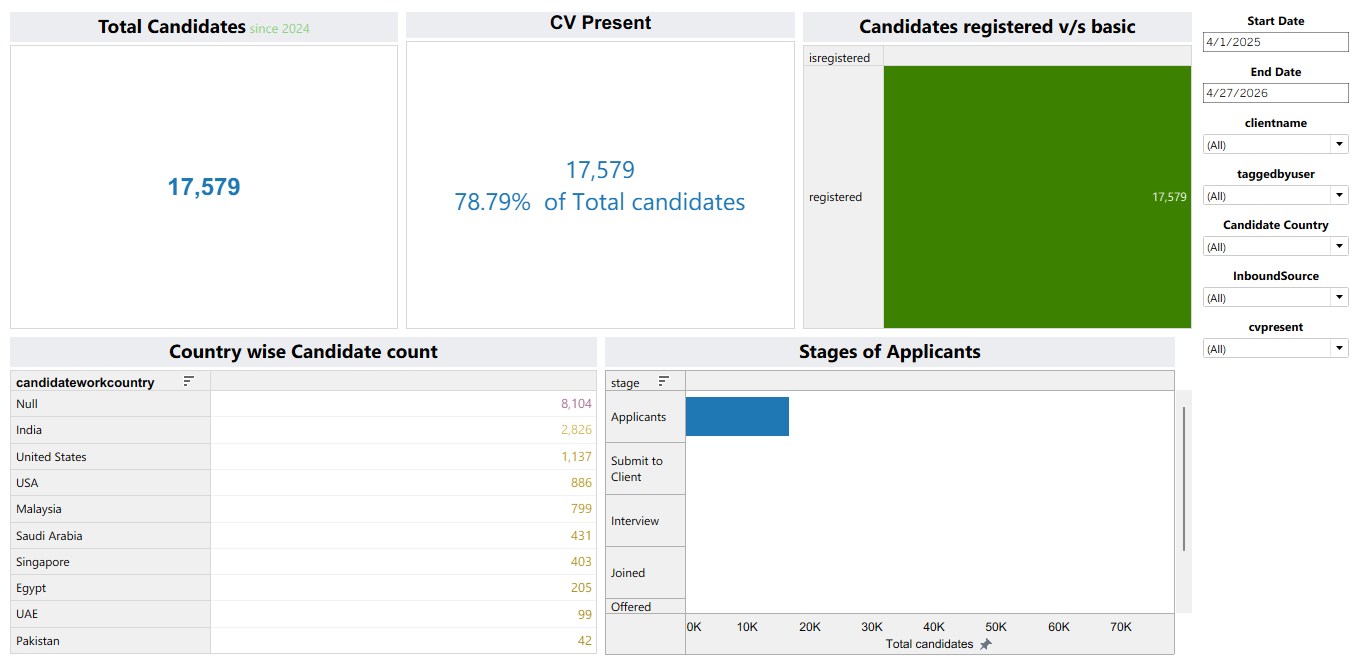

The dashboard page shown, as its layout file describes it:
{"tool":"tableau","page":{"name":"Dashboard 1","canvas":[1000,1000],"units":"permille","ordinal":0},"visuals":[{"type":"worksheet","title":"Total candidates","mark":"Automatic","box":[6.9,13.7,282.5,486.3]},{"type":"worksheet","title":"CV present","mark":"Automatic","box":[289.5,13.7,282.5,486.3]},{"type":"worksheet","title":"Candidates registered v/s basic","mark":"Square","rows":["isregistered"],"box":[572,13.7,282.5,486.3]},{"type":"parameter","param":"[Parameters].[Parameter 1]","box":[854.5,13.7,138.5,87.3]},{"type":"parameter","param":"[Parameters].[Parameter 2]","box":[854.5,101,138.5,87.3]},{"type":"filter","title":"Total candidates","param":"[sqlproxy.1h776nu17bqfv21fgzwo31el5dya].[none:clientname:nk]","box":[854.5,188.4,138.5,87.3]},{"type":"filter","title":"Total candidates","param":"[sqlproxy.1h776nu17bqfv21fgzwo31el5dya].[none:taggedbyuser:nk]","box":[854.5,275.7,138.5,87.3]},{"type":"filter","title":"Total candidates","param":"[sqlproxy.1h776nu17bqfv21fgzwo31el5dya].[none:Calculation_1349714405203968:nk]","box":[854.5,363,138.5,87.3]},{"type":"filter","title":"Total candidates","param":"[sqlproxy.1h776nu17bqfv21fgzwo31el5dya].[none:Calculation_1349714412871681:nk]","box":[854.5,450.4,138.5,87.3]},{"type":"worksheet","title":"Country wise","mark":"Automatic","rows":["candidateworkcountry"],"box":[6.9,500,423.8,486.2]},{"type":"worksheet","title":"Stages of Applicants","mark":"Bar","rows":["stage"],"cols":["candidateid"],"box":[430.7,500,423.8,486.3]},{"type":"filter","title":"Total candidates","param":"[sqlproxy.1h776nu17bqfv21fgzwo31el5dya].[none:cvpresent:nk]","box":[854.5,537.7,138.5,87.3]}]}

Visuals, with their boxes on the dashboard's canvas, which has no fixed pixel size, in thousandths of its width and height (x1, y1, x2, y2). These are canvas units, not pixel positions in the 1352x663 screenshot, which may show the page scaled, cropped or inside an application window:
"Total candidates" worksheet: {"x1": 7, "y1": 14, "x2": 289, "y2": 500}
"CV present" worksheet: {"x1": 290, "y1": 14, "x2": 572, "y2": 500}
"Candidates registered v/s basic" worksheet (Square marks): {"x1": 572, "y1": 14, "x2": 854, "y2": 500}
parameter: {"x1": 854, "y1": 14, "x2": 993, "y2": 101}
parameter: {"x1": 854, "y1": 101, "x2": 993, "y2": 188}
"Total candidates" filter: {"x1": 854, "y1": 188, "x2": 993, "y2": 276}
"Total candidates" filter: {"x1": 854, "y1": 276, "x2": 993, "y2": 363}
"Total candidates" filter: {"x1": 854, "y1": 363, "x2": 993, "y2": 450}
"Total candidates" filter: {"x1": 854, "y1": 450, "x2": 993, "y2": 538}
"Country wise" worksheet: {"x1": 7, "y1": 500, "x2": 431, "y2": 986}
"Stages of Applicants" worksheet (Bar marks): {"x1": 431, "y1": 500, "x2": 854, "y2": 986}
"Total candidates" filter: {"x1": 854, "y1": 538, "x2": 993, "y2": 625}
